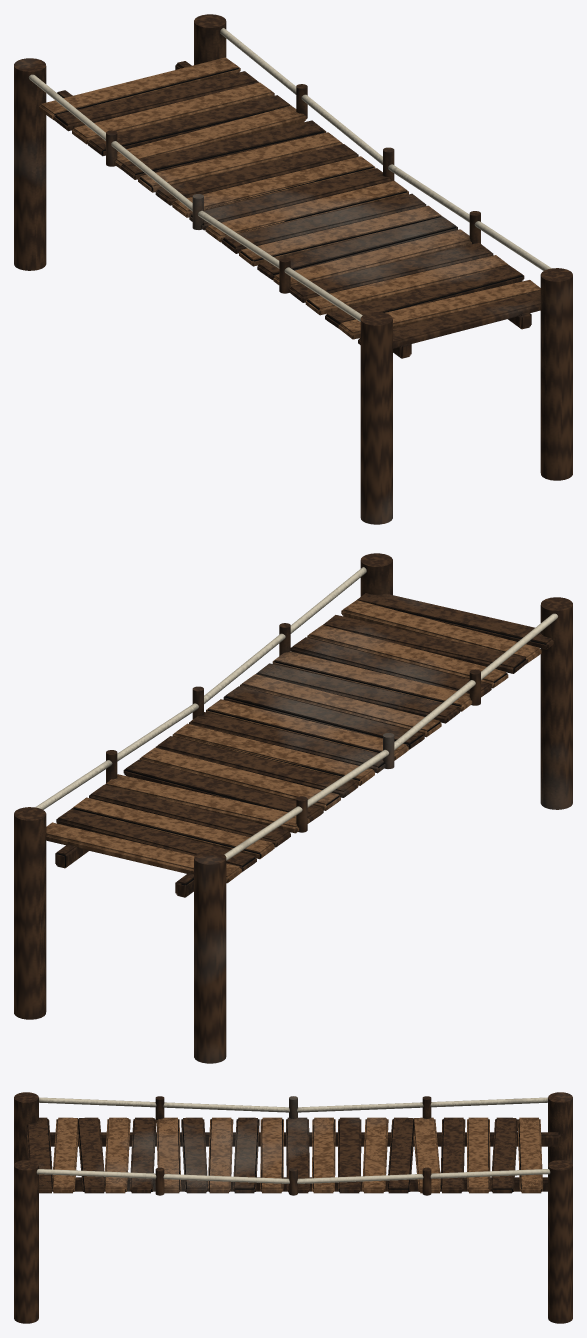
File: cenario_ponte_reparada.glb
3 views of the same model, one above another, from view 1: azimuth 30°, elevation 25°; view 2: azimuth 150°, elevation 25°; view 3: azimuth 270°, elevation 25° (orthographic). The views are drawn at different scales.
Parts seen in each view (by area): view 1: cenario_ponte_reparada; view 2: cenario_ponte_reparada; view 3: cenario_ponte_reparada.
Boxes of the visible parts, x1,y1,x2,y2 form: cenario_ponte_reparada: (14,14,572,524); cenario_ponte_reparada: (14,553,572,1063); cenario_ponte_reparada: (14,1092,572,1323).
Bounding box in the file's own units: 2.08 × 1.9 × 6.28.
1 material, 1 textured.
